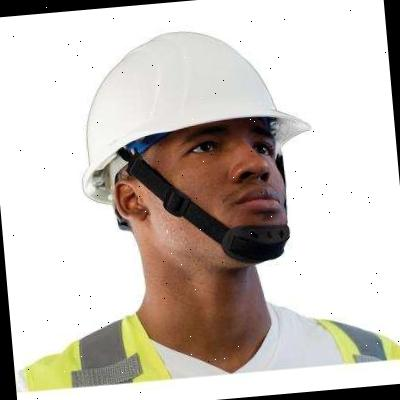helmet: (68, 17, 316, 206)
wear: (9, 281, 400, 392)
